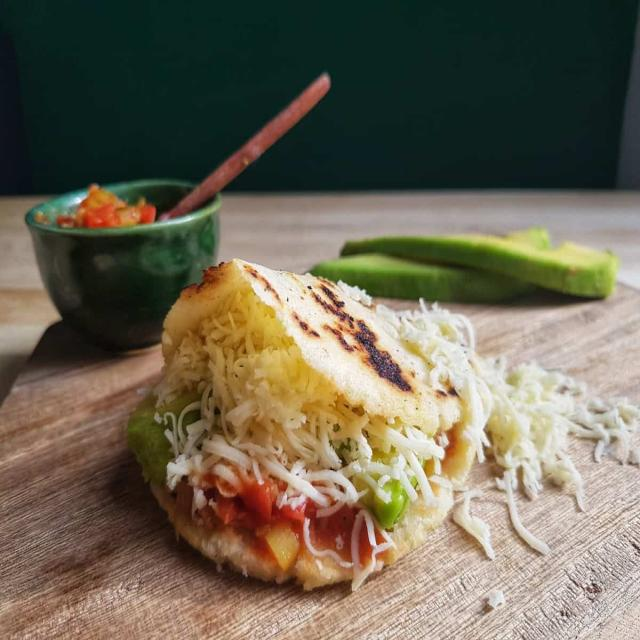arepa: (151, 258, 482, 522)
